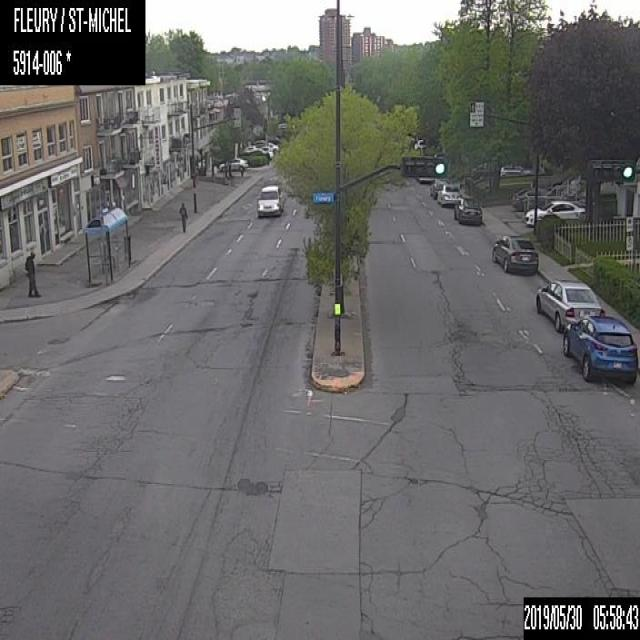pedestrian: (24, 251, 44, 300), (178, 200, 188, 235)
vehicle: (562, 312, 639, 386), (533, 278, 606, 334), (523, 195, 586, 229), (492, 232, 538, 275), (252, 183, 284, 217), (509, 185, 552, 209), (453, 197, 484, 228), (435, 182, 465, 208), (218, 155, 250, 171), (428, 175, 449, 199)
